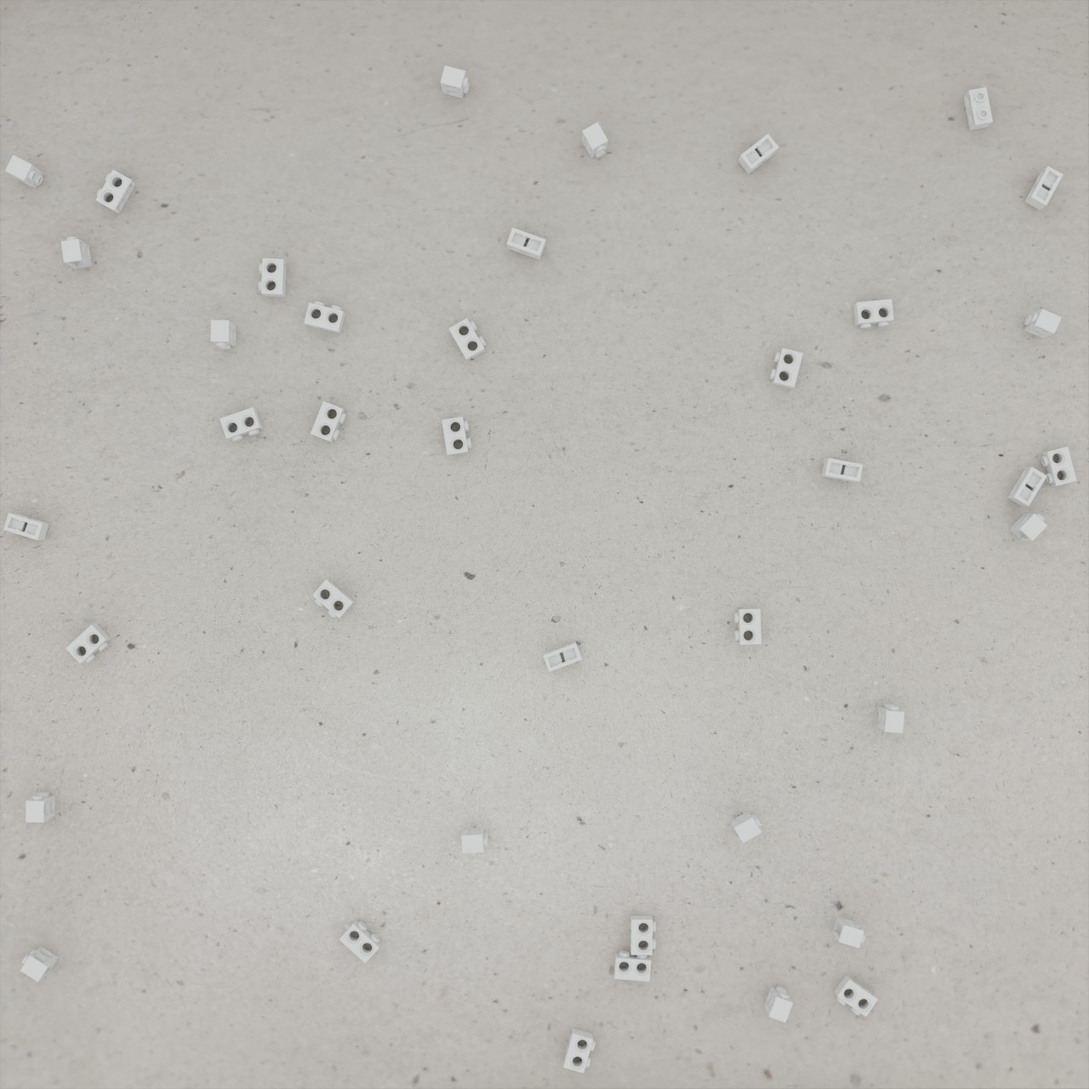lego: (834, 974, 878, 1017), (339, 920, 381, 964), (66, 623, 111, 664), (96, 169, 136, 214), (1024, 166, 1064, 210), (738, 133, 779, 174), (312, 579, 355, 618), (1007, 467, 1047, 507), (449, 318, 486, 361), (310, 401, 346, 443), (220, 407, 263, 442), (563, 1028, 596, 1073), (1041, 446, 1077, 487), (20, 946, 59, 982), (304, 301, 346, 334), (770, 348, 803, 389), (5, 155, 44, 189), (963, 87, 993, 131), (507, 227, 546, 260), (3, 513, 49, 540), (853, 299, 894, 328), (442, 417, 472, 456), (543, 642, 582, 672), (614, 951, 651, 982), (1024, 309, 1062, 339), (258, 258, 287, 297), (1009, 513, 1048, 541), (764, 986, 793, 1023), (832, 916, 865, 948), (821, 458, 863, 483), (630, 915, 656, 955), (730, 811, 762, 843), (440, 65, 470, 99), (734, 608, 761, 645), (61, 237, 92, 269), (581, 122, 608, 158), (26, 792, 55, 823), (877, 704, 905, 733), (211, 320, 236, 349), (461, 828, 488, 854)
